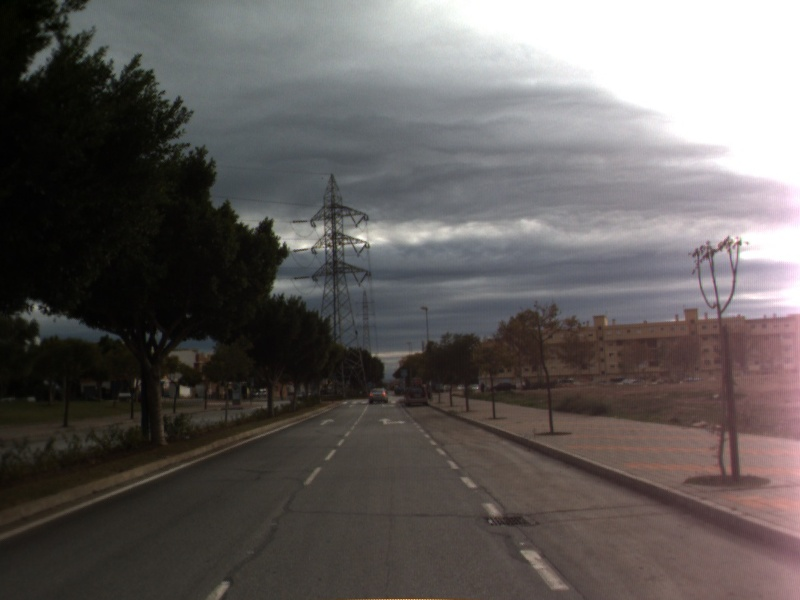STRAIGHT: (317, 416, 337, 427)
STRAIGHT_RIGHT: (377, 416, 408, 427)
